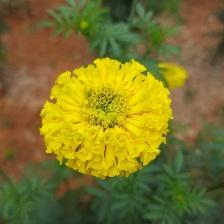marigold: (39, 56, 171, 175)
